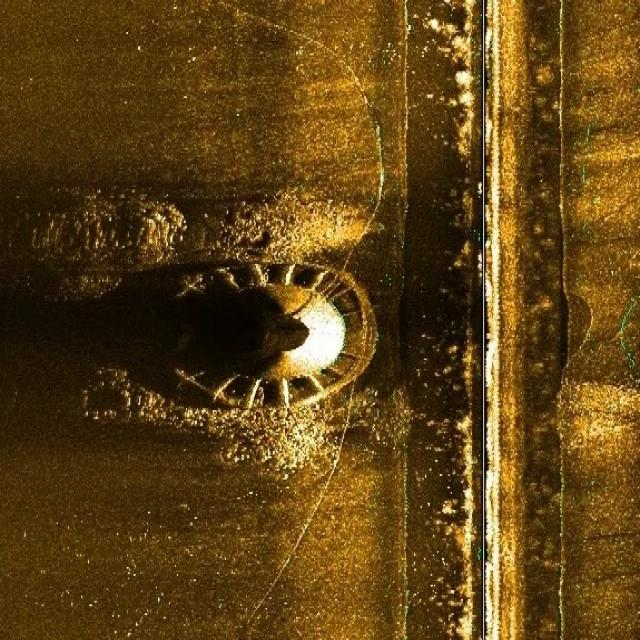other: (169, 257, 380, 408)
